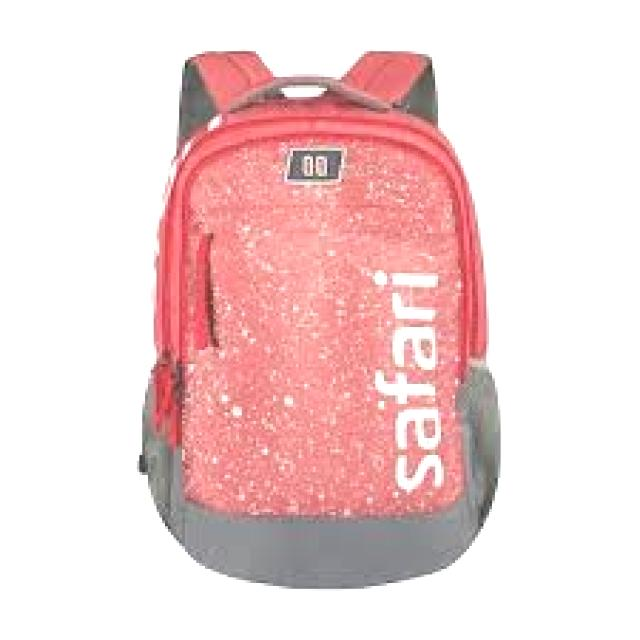backpack: (138, 46, 502, 590)
